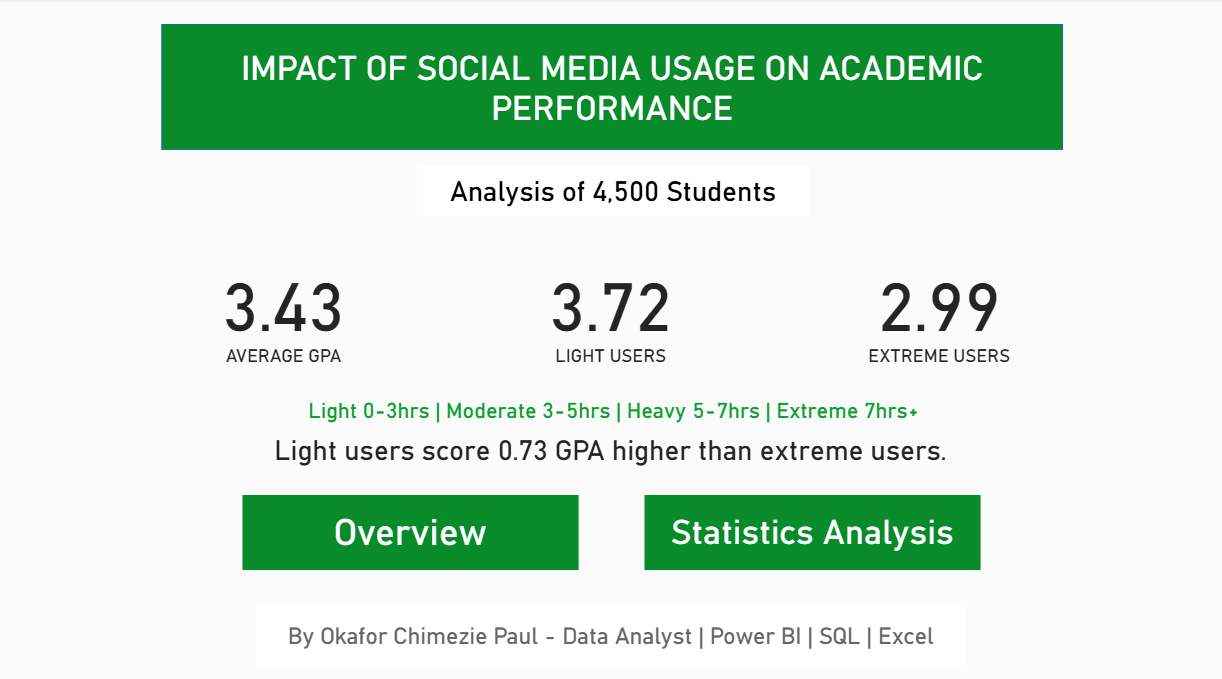

This screenshot's page, from the dashboard's own definition file:
{"tool":"powerbi","page":{"name":"HOME","canvas":[1920,1080],"ordinal":0},"visuals":[{"type":"shape","box":[9.4,0,1910.8,145.4],"z":0},{"type":"textbox","box":[9.4,173.5,1910.8,110.2],"z":1},{"type":"textbox","box":[9.4,300.1,1910.8,72.7],"z":9},{"type":"textbox","box":[121.9,391.5,800,323.5],"z":10},{"type":"textbox","box":[958.9,391.5,846.4,323.5],"z":11},{"type":"textbox","box":[121.9,759.6,1683.3,194.6],"z":12},{"type":"actionButton","box":[614.3,844,712.7,89.1],"z":13},{"type":"shape","box":[398.6,989.4,1160.5,63.3],"z":14}]}

Visuals, with their boxes in screenshot pixels (x1, y1, x2, y2), scaled from the page's 1920x1080 canvas onto the 1222x679 screenshot:
shape: box(6, 0, 1221, 91)
textbox: box(6, 109, 1221, 178)
textbox: box(6, 189, 1221, 234)
textbox: box(78, 246, 587, 450)
textbox: box(610, 246, 1149, 450)
textbox: box(78, 478, 1149, 600)
actionButton: box(391, 531, 845, 587)
shape: box(254, 622, 992, 662)
